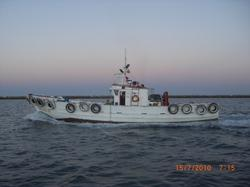otherboat: (22, 47, 222, 131)
